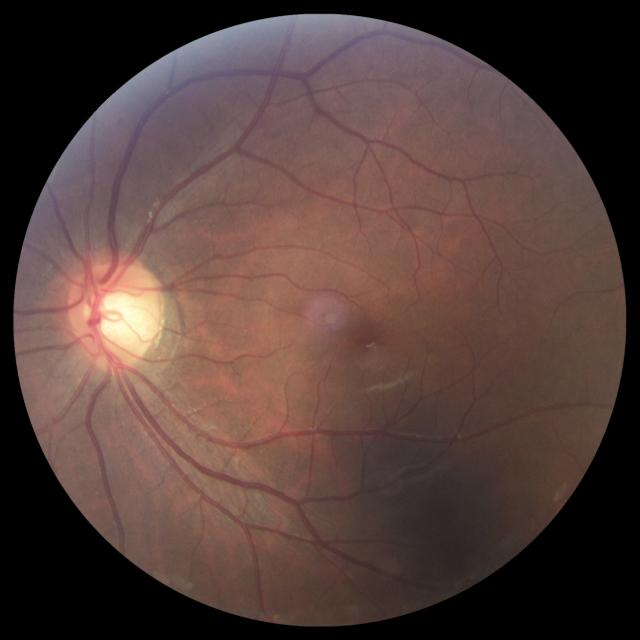OC: (86, 284, 142, 344)
OD: (67, 254, 165, 366)
